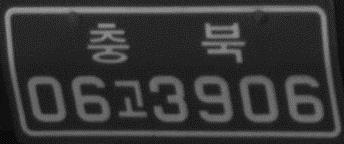0: (25, 72, 67, 125), (237, 73, 279, 125)
3: (148, 74, 190, 125)
6: (68, 73, 111, 123), (284, 73, 324, 125)
9: (193, 73, 233, 126)
고: (110, 76, 150, 120)
충북_D: (85, 18, 248, 66)
